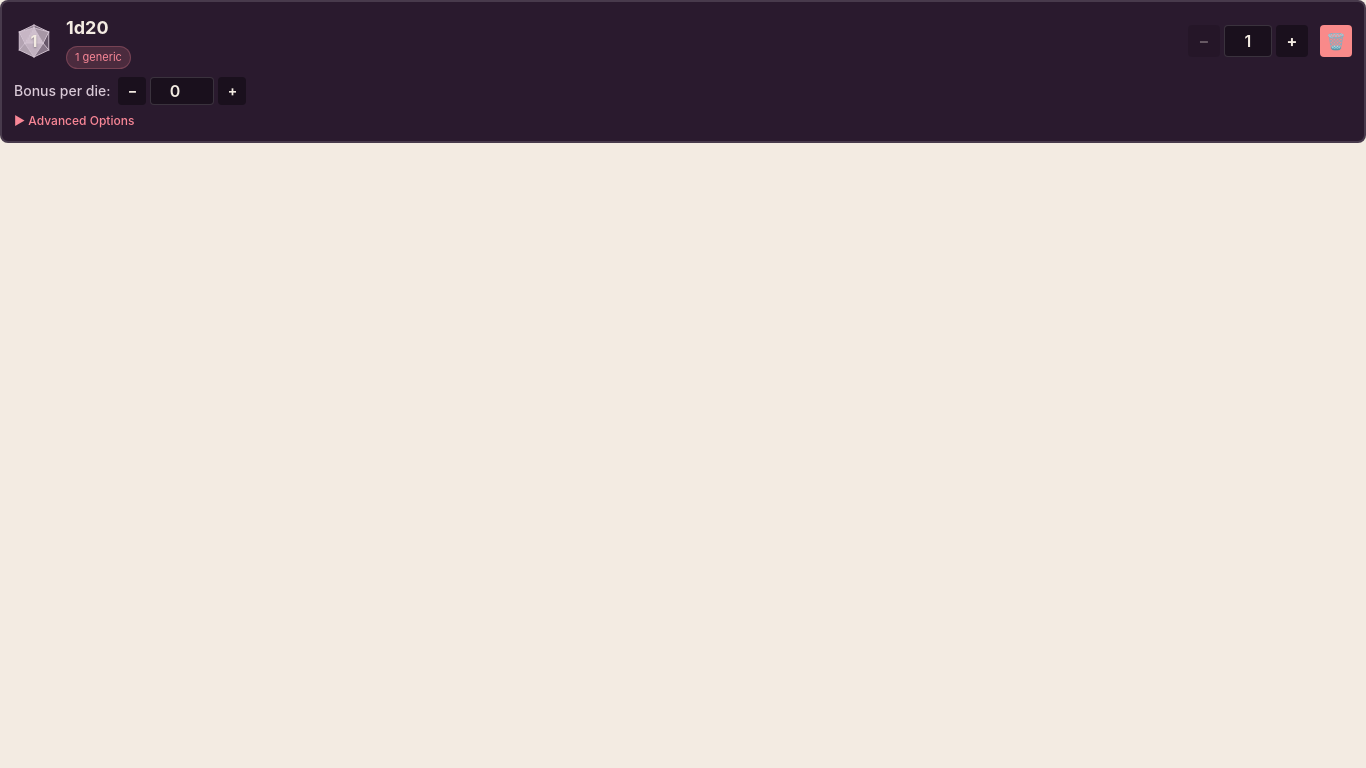
Test: DiceEntryCard mechanics badges › renders no badges for a plain entry and adds one live
Click the button "▶ Advanced Options". click: (80, 120)
box: [14,112,1352,128]
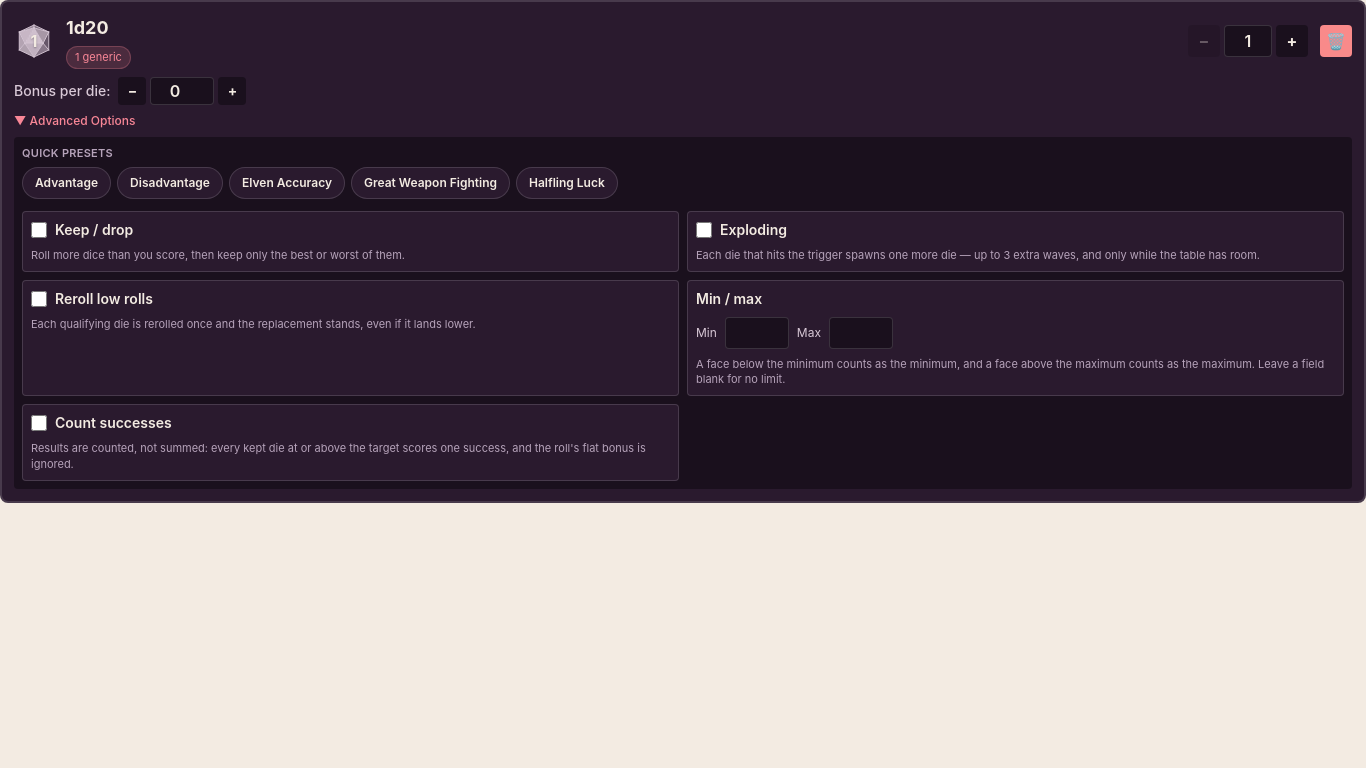
Expected: the text "⬆️ ADV" is not shown
Click the button with aria-label "Apply Advantage to D20". click: (67, 183)
box: [22,167,111,199]
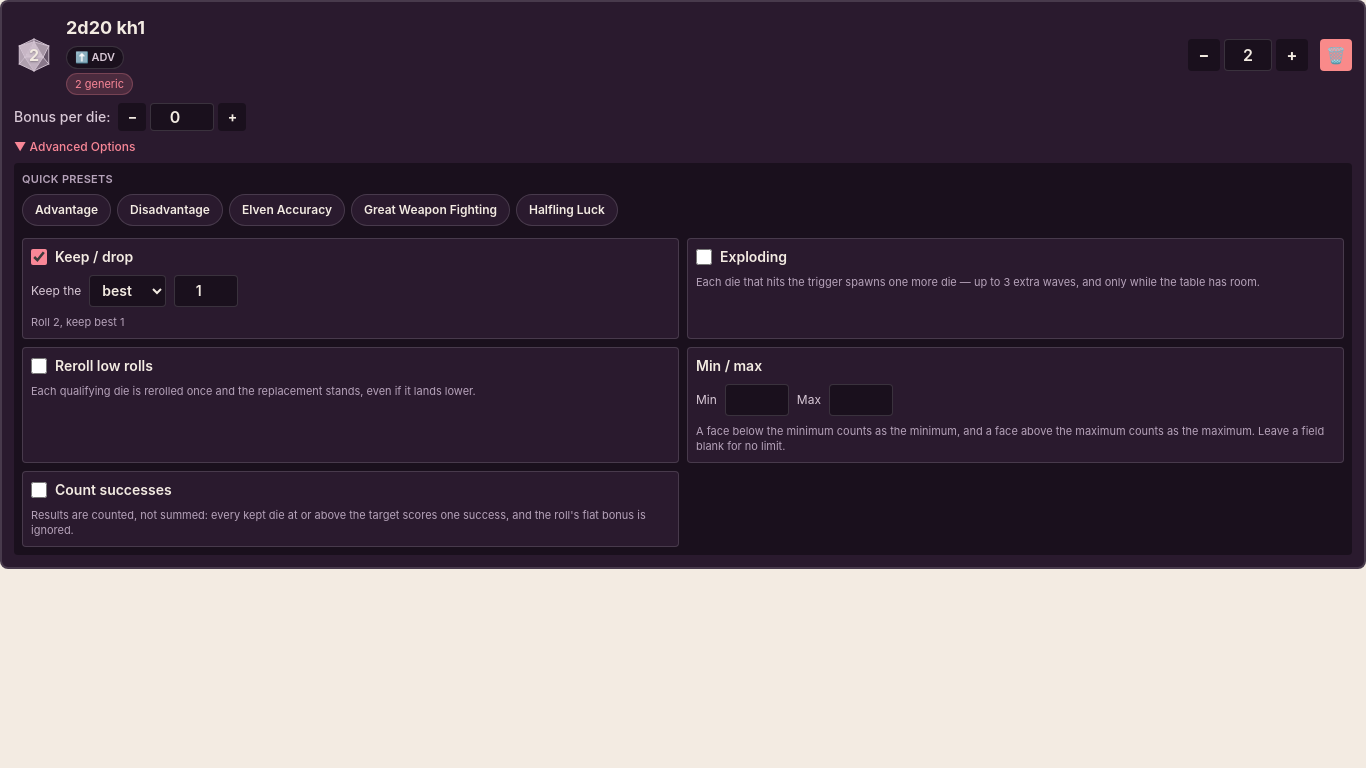
Now the text "⬆️ ADV" is shown, box [66,46,124,68]
Click the checkbox named "Exploding D20 dice". click: (704, 256)
box: [696,248,712,264]
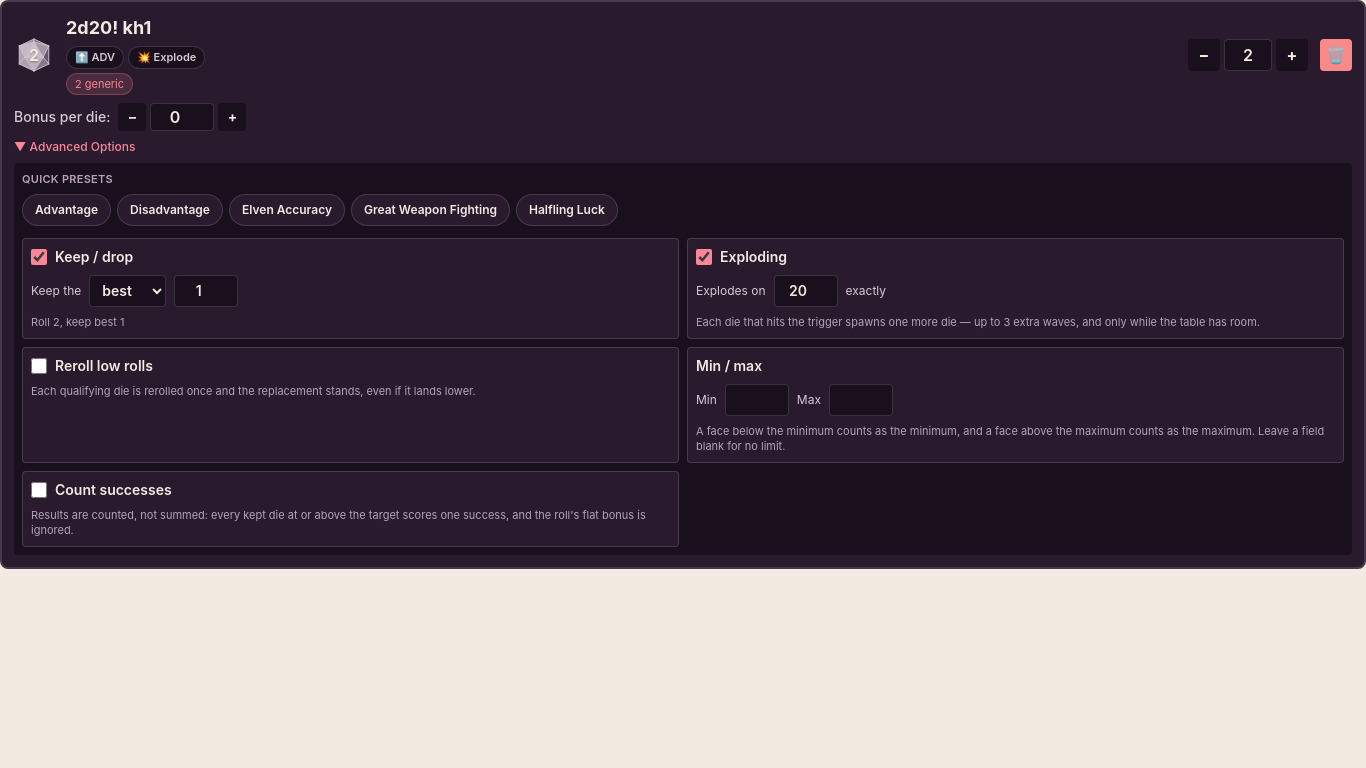
Now the text "⬆️ ADV" is shown, box [66,46,124,68]
Now the text "💥 Explode" is shown, box [128,46,205,68]
